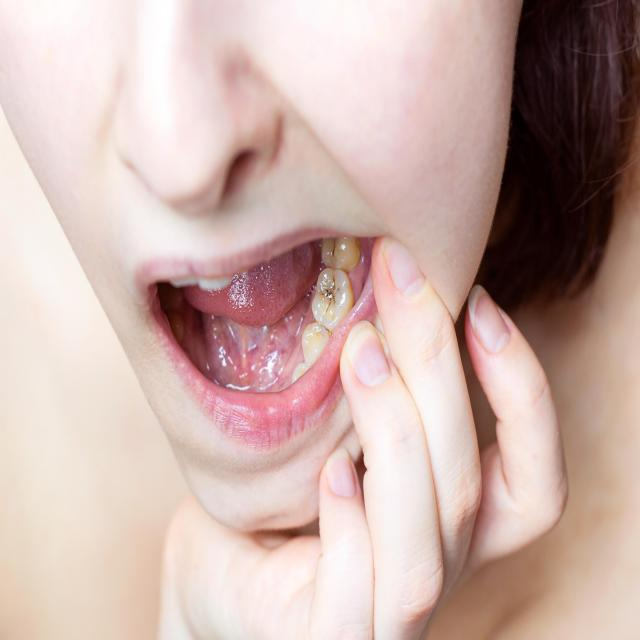Caries: (322, 290, 335, 313), (333, 246, 335, 255), (337, 288, 339, 291), (333, 280, 334, 283), (338, 306, 339, 307)
Tooth: (311, 267, 354, 333), (321, 236, 361, 269), (301, 322, 330, 364)
